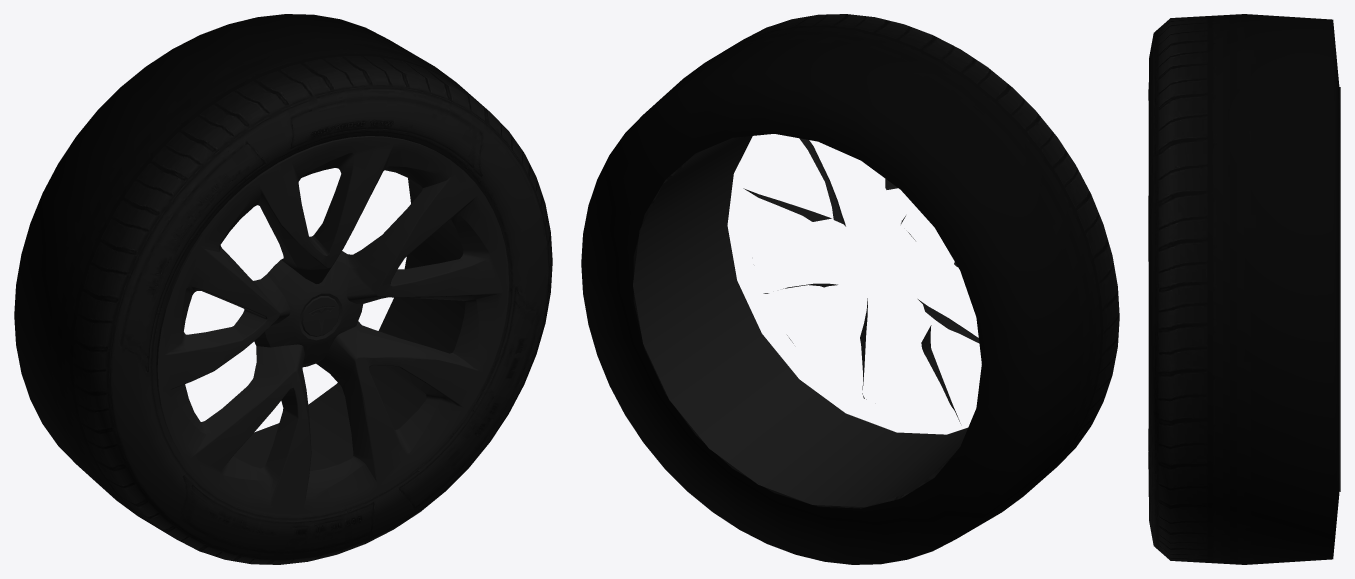
File: Cyberstream.glb
The picture shows the model from 3 angles, left to right: view 1: azimuth 30°, elevation 25°; view 2: azimuth 150°, elevation 25°; view 3: azimuth 270°, elevation 25°; orthographic projection. The views are drawn at different scales.
Visible parts, largest first — view 1: Wheel_Cyberstream2; view 2: Wheel_Cyberstream2; view 3: Wheel_Cyberstream2.
Part boxes in pixels (x1,y1,x2,y2): Wheel_Cyberstream2: (14, 14, 552, 564); Wheel_Cyberstream2: (581, 14, 1119, 564); Wheel_Cyberstream2: (1148, 14, 1340, 564).
Size of the model in its own units: 0.7408 by 0.7394 by 0.2582.
Materials: 2 (1 with a texture image).
